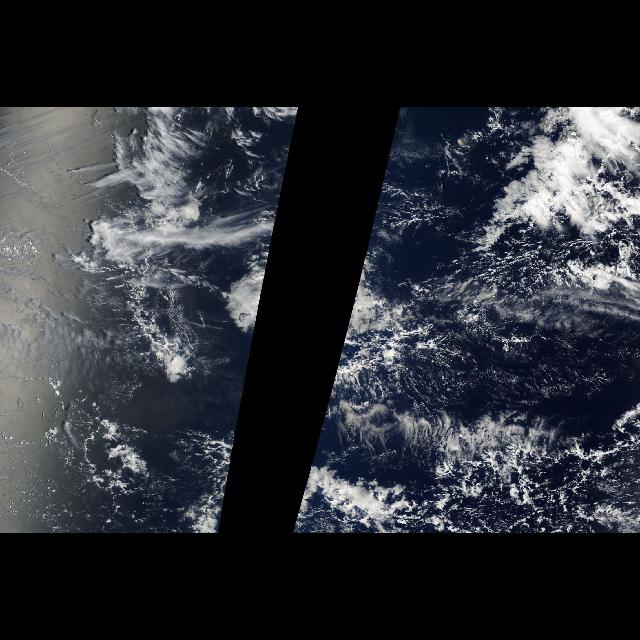Gravel: (438, 358, 640, 534)
